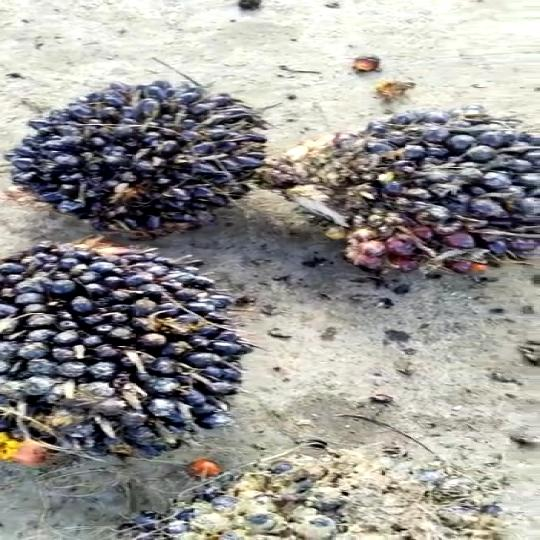mentah: (4, 232, 281, 476), (4, 84, 289, 243), (311, 106, 538, 290)
